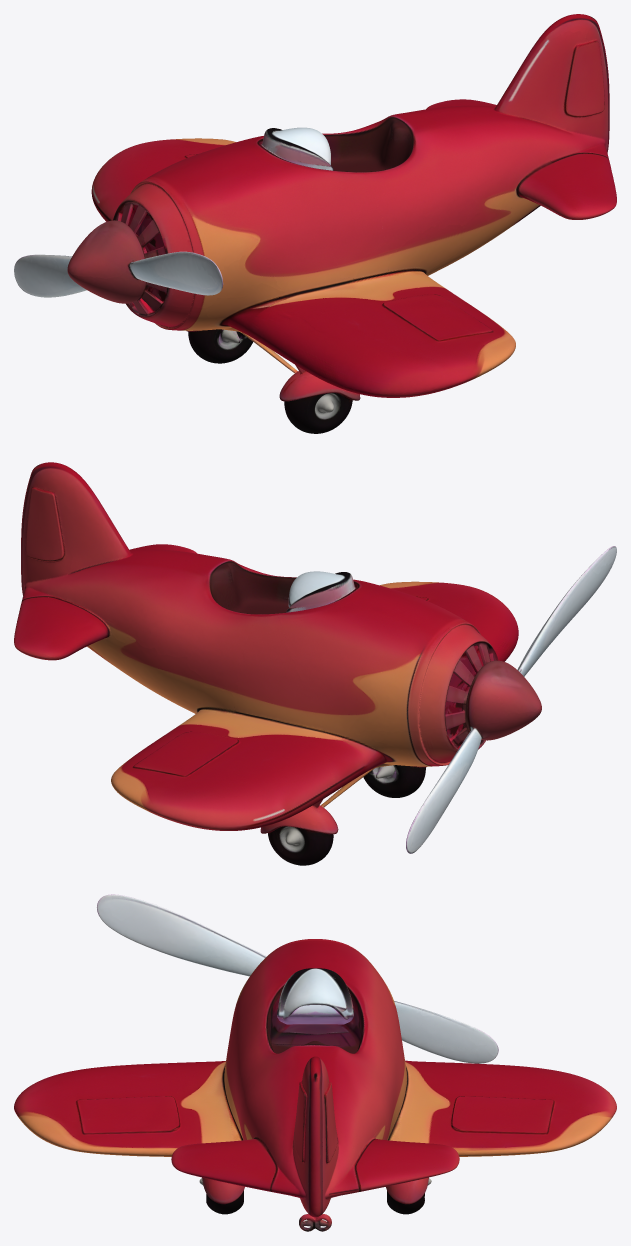
Rendered from Aeroplano.glb.
3 renders of one model, top to bottom at view 1: azimuth 30°, elevation 25°; view 2: azimuth 150°, elevation 25°; view 3: azimuth 270°, elevation 25°, orthographic. The views are drawn at different scales.
Size of the model in its own units: 1.85 by 1.01 by 1.9.
1 material, 1 textured.
